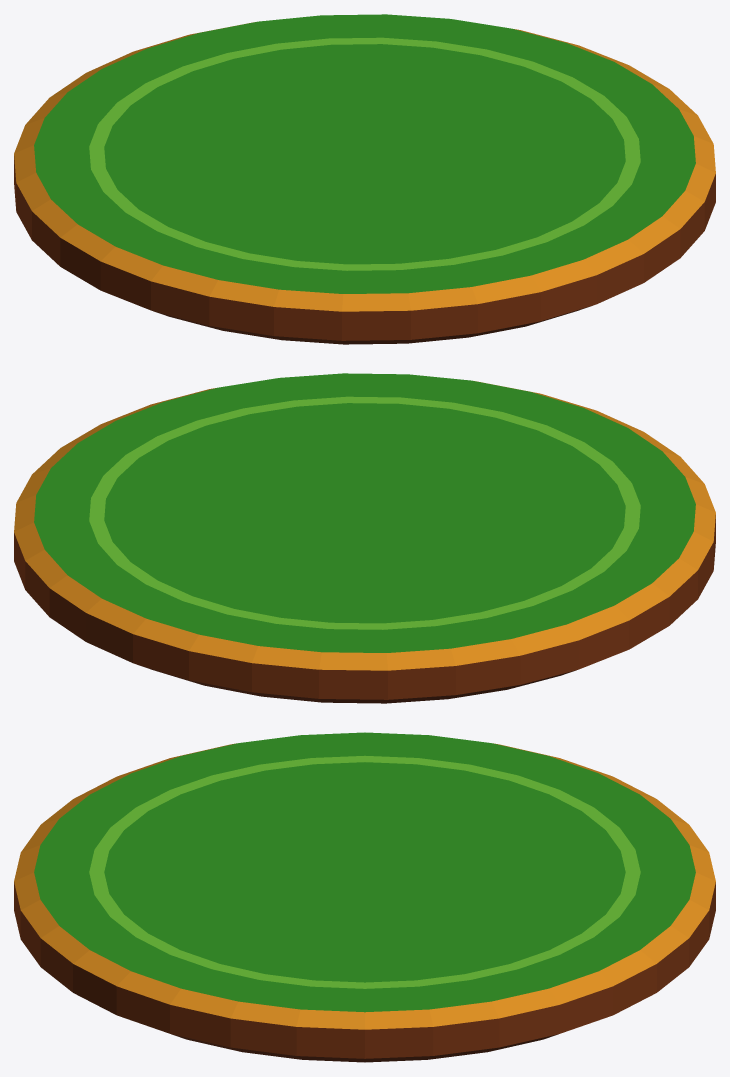
The model's file is SM_Island.fbx.
3 renders of one model, top to bottom at view 1: azimuth 30°, elevation 25°; view 2: azimuth 150°, elevation 25°; view 3: azimuth 270°, elevation 25°, orthographic.
Visible parts, largest first — view 1: SM_Island; view 2: SM_Island; view 3: SM_Island.
Part boxes in pixels (<box>): SM_Island: <box>14,14,715,344</box>; SM_Island: <box>14,373,715,703</box>; SM_Island: <box>14,732,715,1062</box>.
Size of the model in its own units: 7 by 7 by 0.6.
